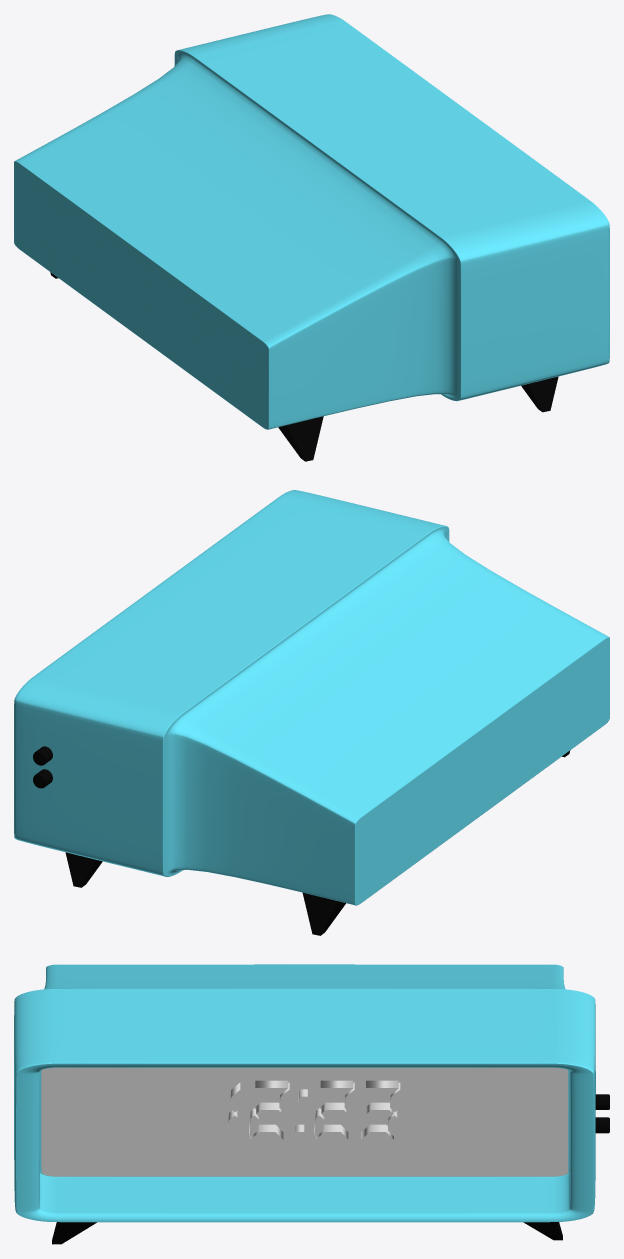
The model's file is clock 1.fbx.
3 views of the same model, one above another, from view 1: azimuth 30°, elevation 25°; view 2: azimuth 150°, elevation 25°; view 3: azimuth 270°, elevation 25° (orthographic).
Visible parts, largest first — view 1: Cube, Cube.001; view 2: Cube, Cube.001; view 3: Cube, Cube.002, Text, Cube.001.
Boxes of the visible parts, x1=… form: Cube: x1=14, y1=14, x2=609, y2=429; Cube.001: x1=50, y1=272, x2=558, y2=461; Cube: x1=14, y1=490, x2=609, y2=905; Cube.001: x1=65, y1=750, x2=570, y2=935; Cube: x1=14, y1=964, x2=595, y2=1222; Cube.002: x1=41, y1=1067, x2=568, y2=1176; Text: x1=228, y1=1080, x2=400, y2=1139; Cube.001: x1=52, y1=1222, x2=562, y2=1244.
Size of what is drawn, in the model's own units: 435 by 253 by 676.
